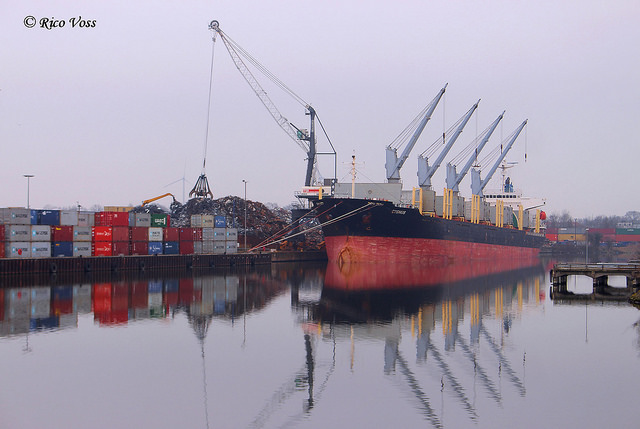bulk carrier: (314, 85, 547, 293)
